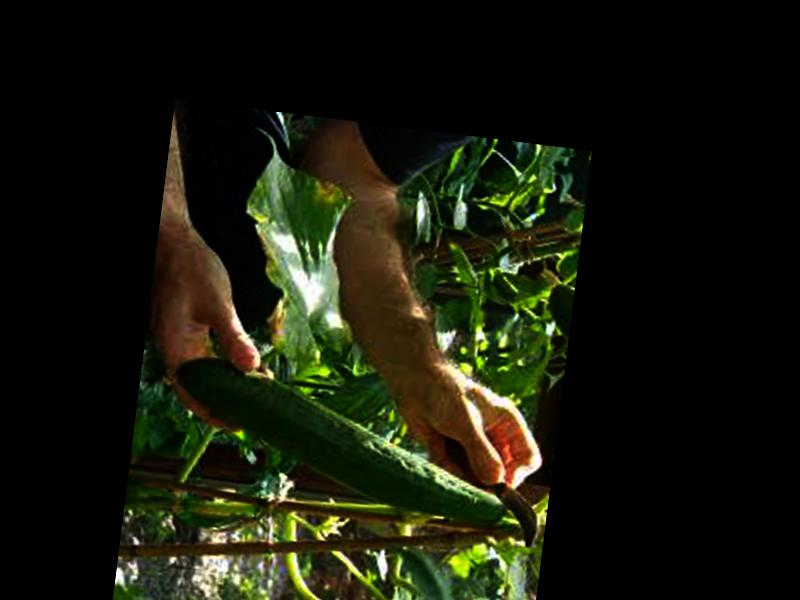Cucumber: (163, 355, 517, 527)
